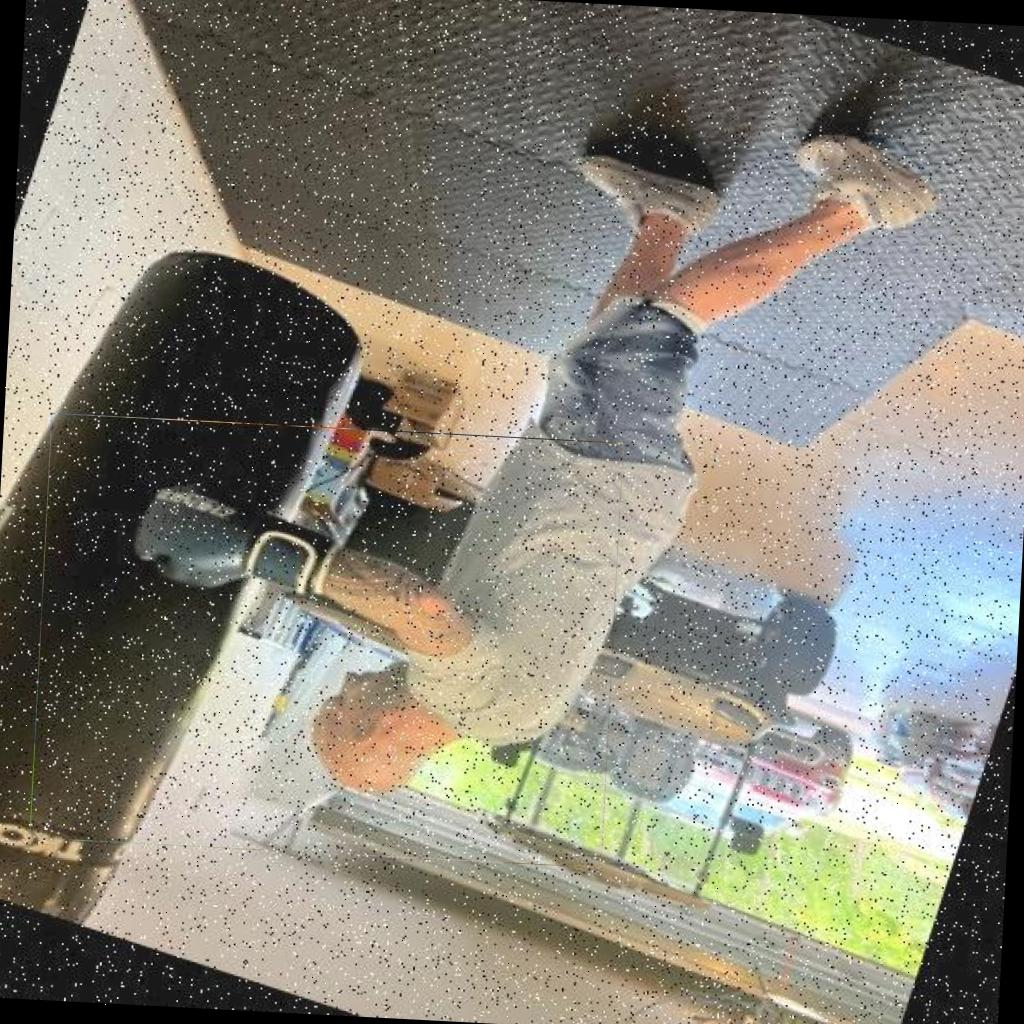hook: (30, 414, 623, 868)
